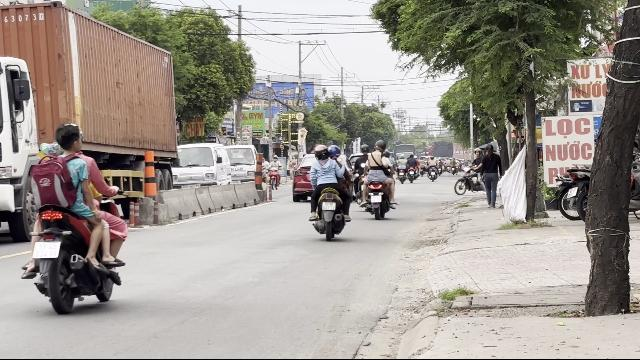licenseplate: (32, 242, 59, 258)
motorcyclist: (19, 120, 129, 314)
nohelmet: (54, 122, 82, 152)
